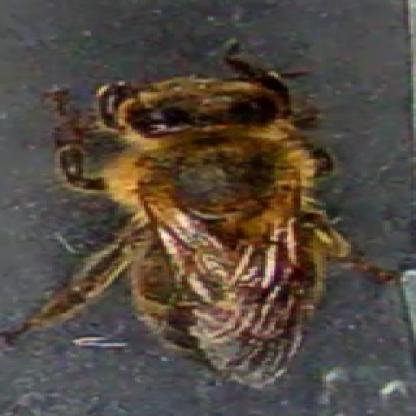bee: (83, 71, 353, 386)
